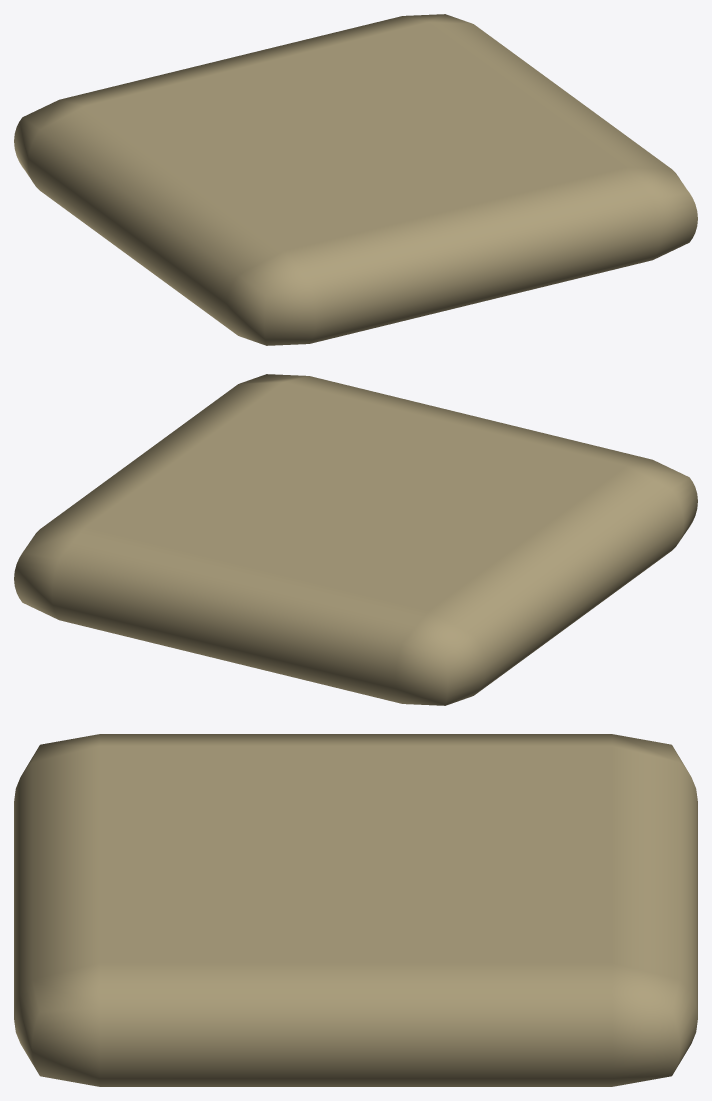
File: path.glb
3 views of the same model, one above another, from view 1: azimuth 30°, elevation 25°; view 2: azimuth 150°, elevation 25°; view 3: azimuth 270°, elevation 25° (orthographic). The views are drawn at different scales.
Parts seen in each view (by area): view 1: path; view 2: path; view 3: path.
Boxes of the visible parts, bbox=[...] form: path: bbox=[14, 14, 697, 345]; path: bbox=[14, 374, 697, 705]; path: bbox=[14, 734, 697, 1086].
Size of the model in its own units: 1 by 0.18 by 1.
